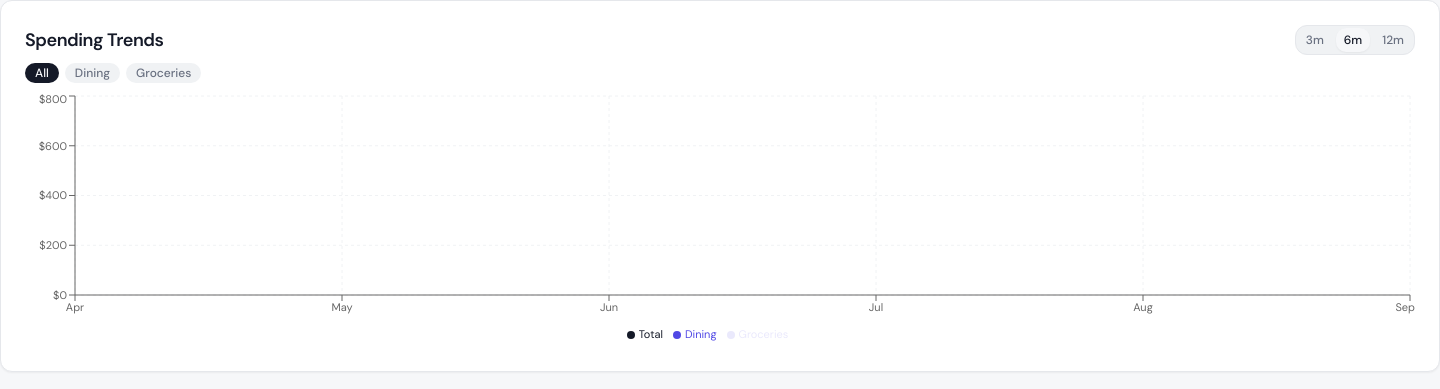
Test: SpendingTrendsChart honours the category filter › deselects a chip whose category is hidden after it was picked
The width and height of the screenshot is (1440, 389).
Later steps or results of the test are not shown.
Click the button "Dining": (92, 73) [65,63,120,83]
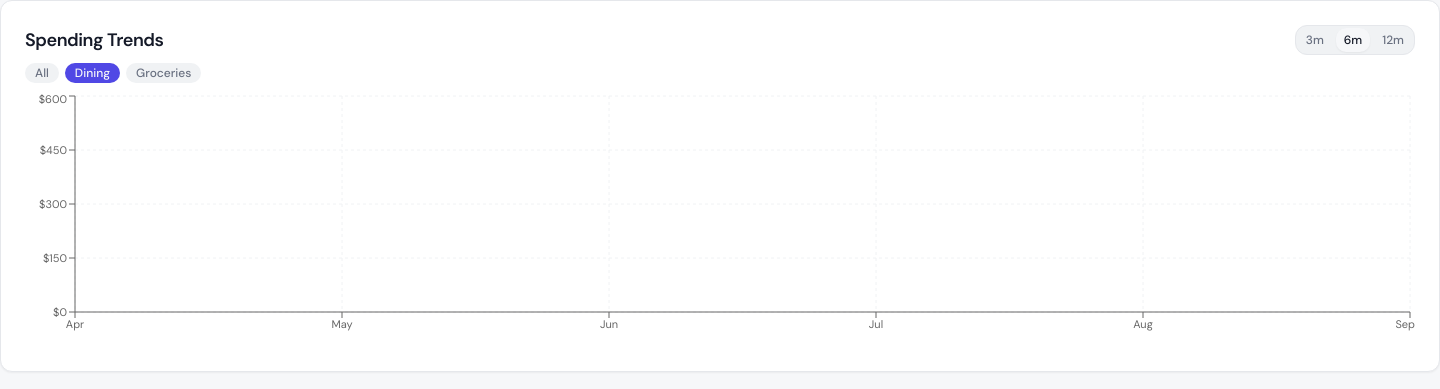
Expected: the button "Dining" is pressed, [65,63,120,83]
